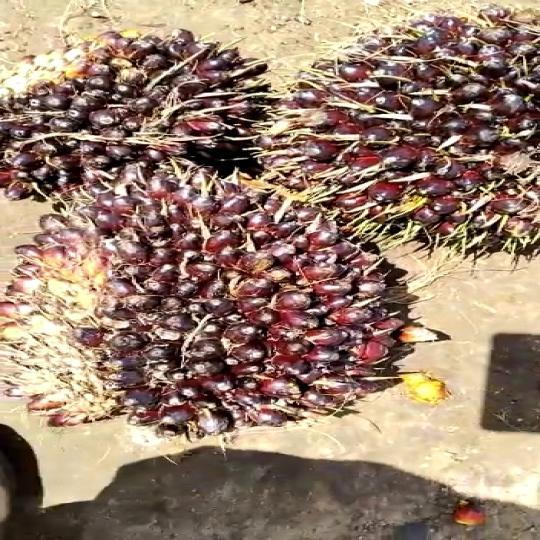mentah: (0, 166, 417, 450), (292, 2, 540, 262), (7, 16, 277, 208)
